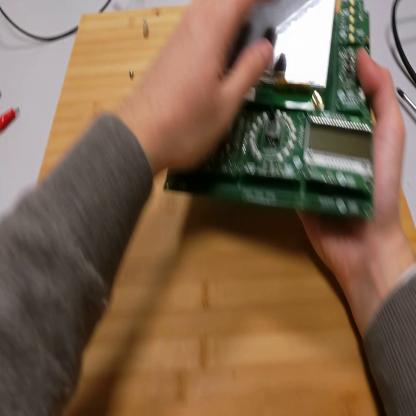hand: (298, 45, 409, 293), (149, 3, 277, 169)
low voltage board: (165, 2, 383, 234)
screwdriver-: (398, 86, 416, 114)
working area: (39, 11, 414, 414)
